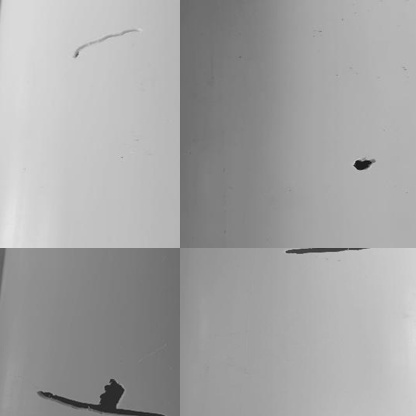fengxi: (66, 22, 149, 65), (286, 245, 369, 257)
kongdong: (35, 388, 168, 416), (349, 155, 375, 173)
